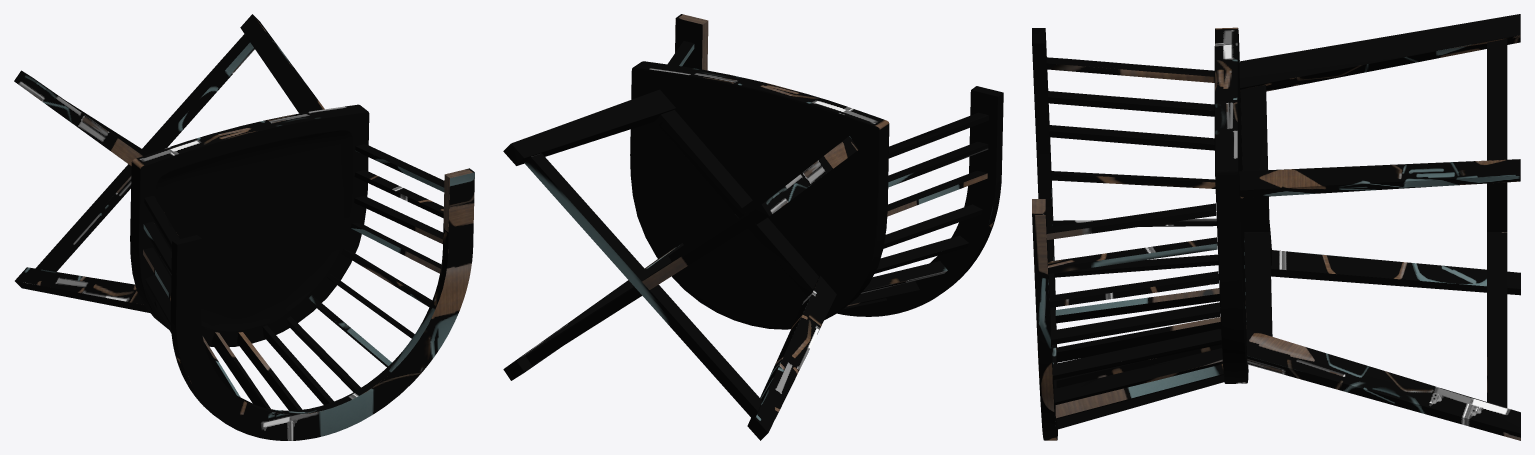
The picture shows the model from 3 angles, left to right: view 1: azimuth 30°, elevation 25°; view 2: azimuth 150°, elevation 25°; view 3: azimuth 270°, elevation 25°; orthographic projection. The views are drawn at different scales.
Bounding box in the file's own units: 0.65 × 0.5407 × 0.7183.
